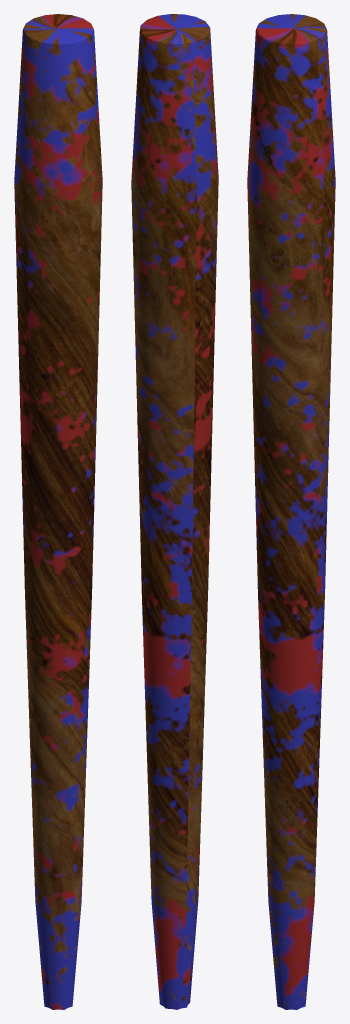
File: Paintbrush Handle.fbx
3 views of the same model, side by side, from view 1: azimuth 90°, elevation 25°; view 2: azimuth 210°, elevation 25°; view 3: azimuth 270°, elevation 25° (orthographic).
Visible parts, largest first — view 1: Heropaintbrush_low_lambert1_0; view 2: Heropaintbrush_low_lambert1_0; view 3: Heropaintbrush_low_lambert1_0.
Part boxes in pixels (<box>): Heropaintbrush_low_lambert1_0: <box>14,14,102,1009</box>; Heropaintbrush_low_lambert1_0: <box>131,14,218,1009</box>; Heropaintbrush_low_lambert1_0: <box>247,14,335,1009</box>.
Size of the model in its own units: 28.19 by 343 by 28.19.
Materials: 1 (1 with a texture image).
